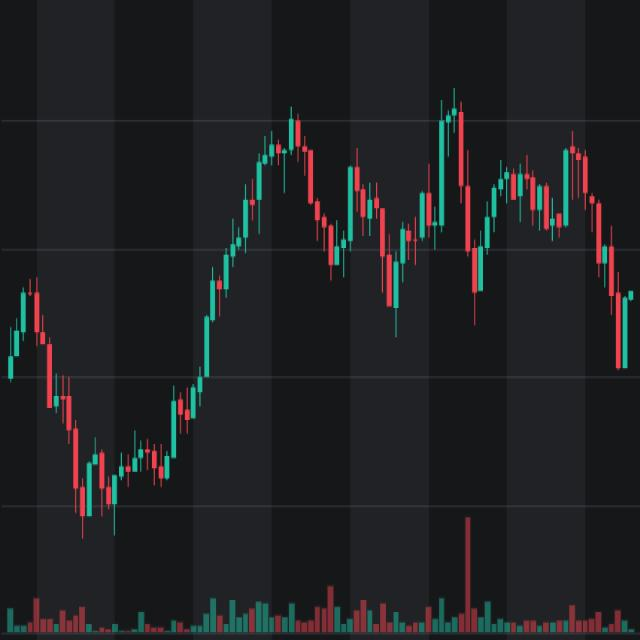Resistance-breakout: (14, 90, 306, 508)
